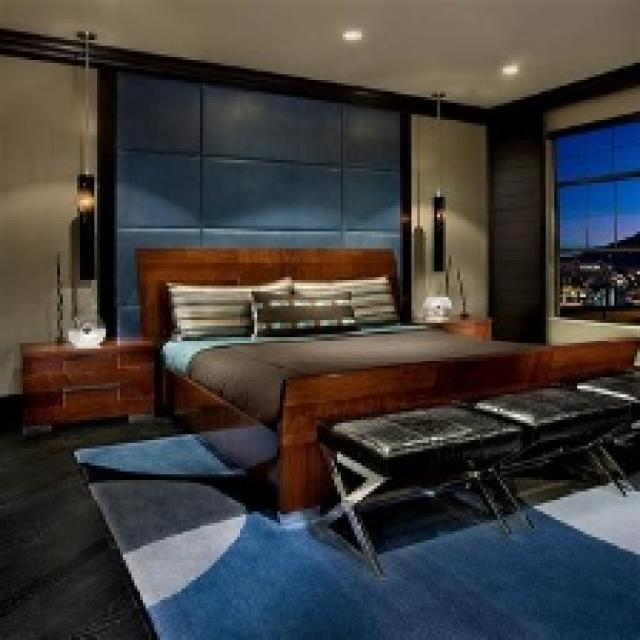Bed: (134, 246, 637, 514)
